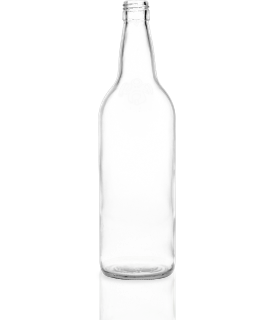glass_bottleww: (87, 1, 198, 286)
